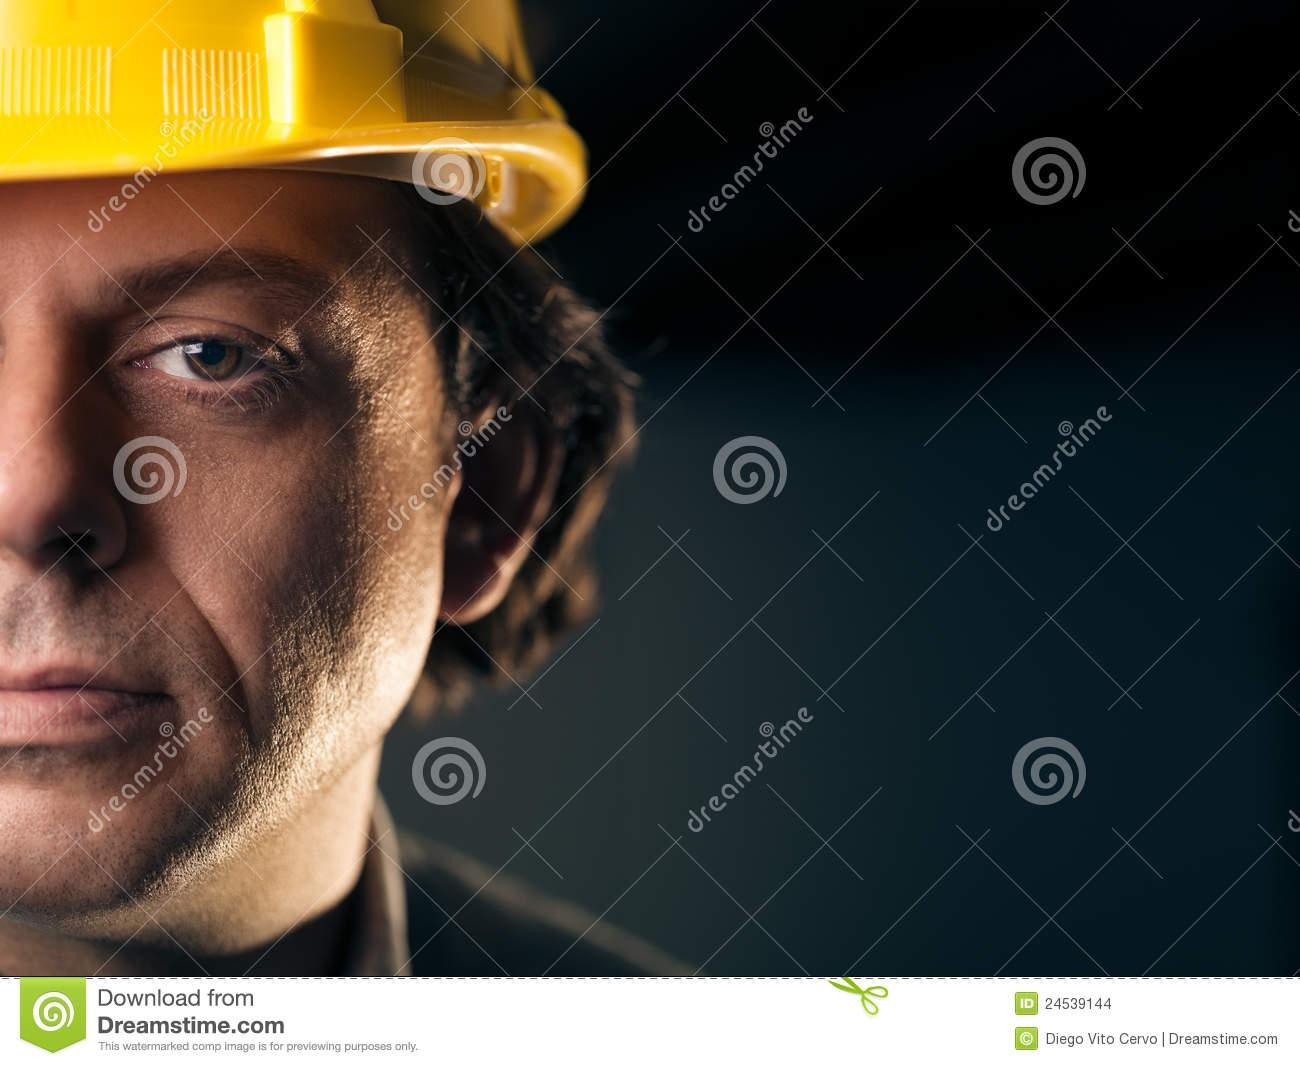helmet: (0, 0, 593, 243)
